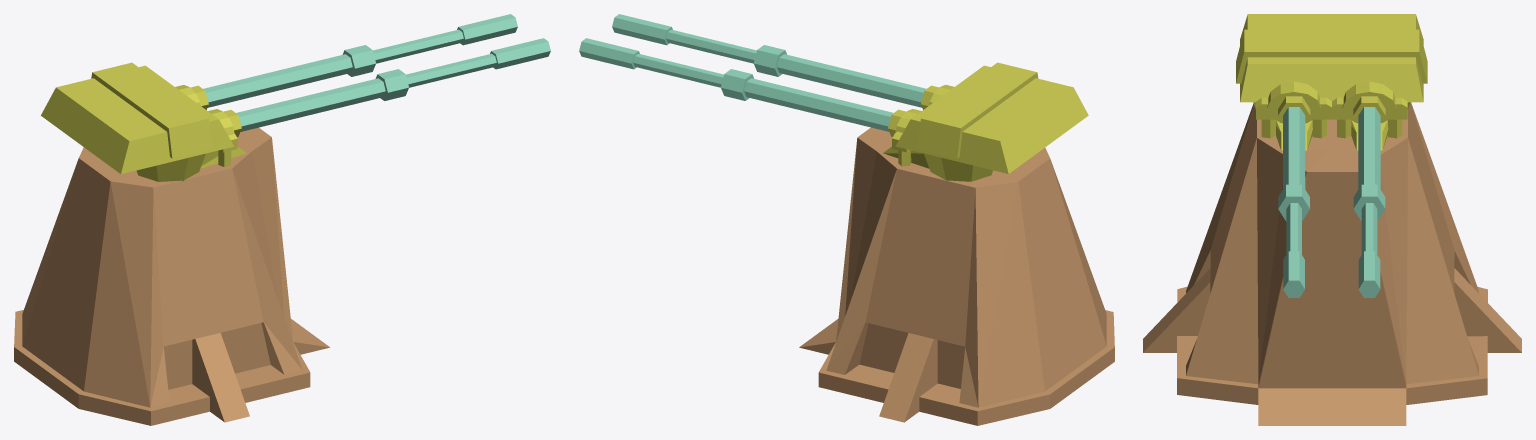
File: Cannon-RRR-2.fbx
3 renders of one model, left to right at view 1: azimuth 30°, elevation 25°; view 2: azimuth 150°, elevation 25°; view 3: azimuth 270°, elevation 25°, orthographic. The views are drawn at different scales.
Visible parts, largest first — view 1: russian_3:base, russian_3:attack; view 2: russian_3:base, russian_3:attack; view 3: russian_3:base, russian_3:attack.
Boxes of the visible parts, bbox=[...] form: russian_3:base: bbox=[14, 127, 329, 425]; russian_3:attack: bbox=[41, 14, 550, 181]; russian_3:base: bbox=[799, 127, 1114, 425]; russian_3:attack: bbox=[579, 14, 1088, 181]; russian_3:base: bbox=[1143, 102, 1521, 425]; russian_3:attack: bbox=[1236, 14, 1427, 297].
Size of the model in its own units: 414 by 217 by 246.
